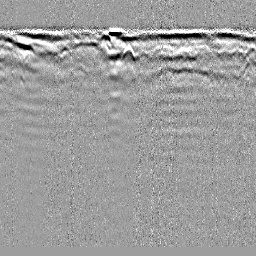cavity: (120, 42, 136, 59)
